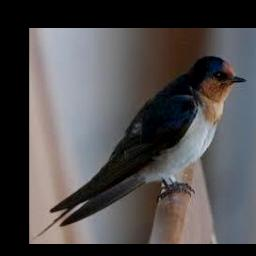Swallow: (33, 55, 247, 240)
